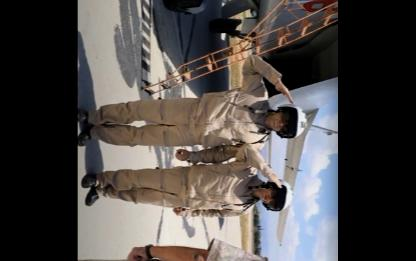Mig31: (161, 0, 338, 246)
